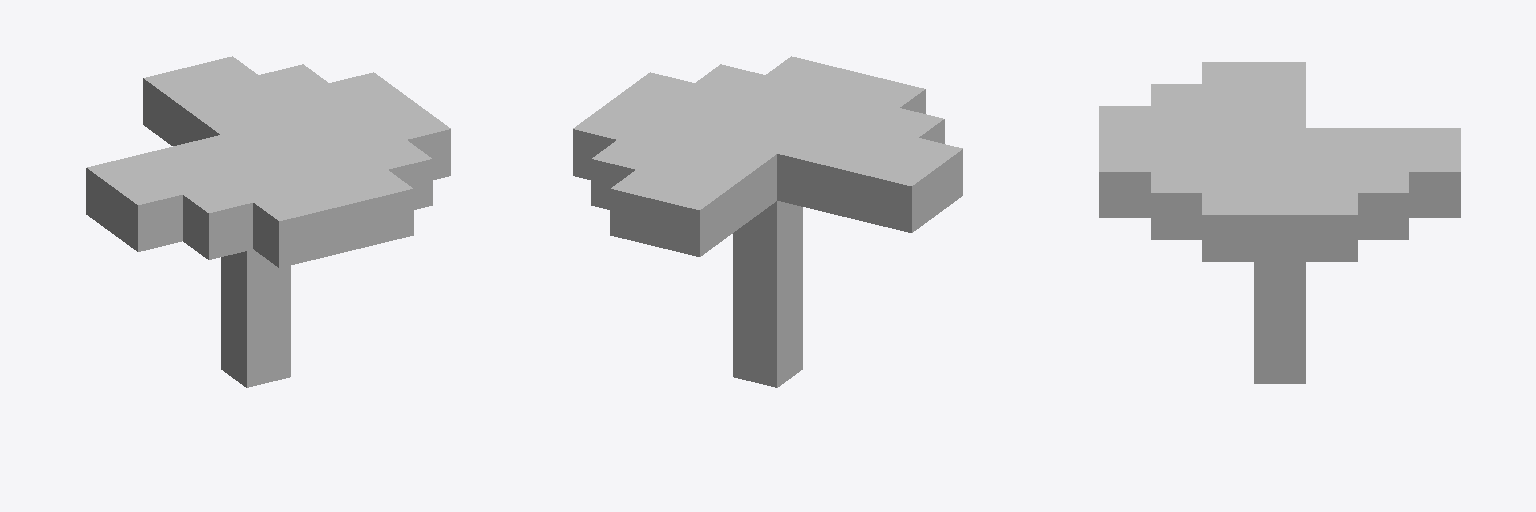
File: lilypads3-0.obj
3 views of the same model, side by side, from view 1: azimuth 30°, elevation 25°; view 2: azimuth 150°, elevation 25°; view 3: azimuth 270°, elevation 25° (orthographic).
Parts seen in each view (by area): view 1: object 1; view 2: object 1; view 3: object 1.
Part boxes in pixels (x1,y1,x2,y2): object 1: (86, 56, 450, 387); object 1: (573, 56, 962, 387); object 1: (1099, 62, 1460, 383).
Bounding box in the file's own units: 0.7 × 0.5 × 0.7.